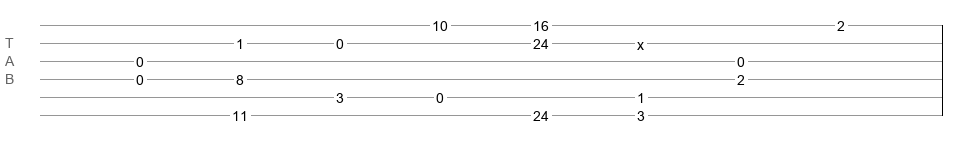0: (136, 54, 144, 64), (136, 72, 144, 82), (336, 36, 344, 46), (436, 90, 444, 100), (737, 54, 745, 64)
1: (236, 36, 244, 46), (637, 90, 645, 100)
10: (432, 18, 448, 28)
11: (232, 108, 248, 118)
16: (533, 18, 549, 28)
2: (737, 72, 745, 82), (837, 18, 845, 28)
24: (533, 36, 549, 46), (533, 108, 549, 118)
3: (336, 90, 344, 100), (637, 108, 645, 118)
8: (236, 72, 244, 82)
x: (637, 37, 644, 45)
